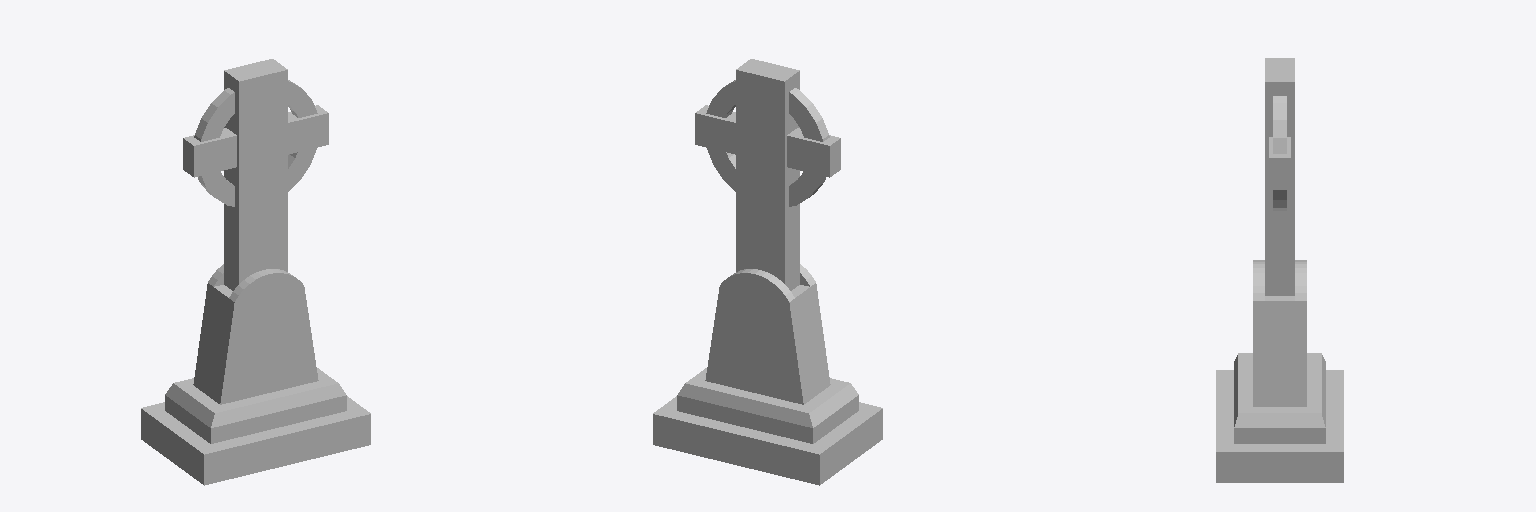
The model's file is gravestoneCrossLarge.obj.
3 renders of one model, left to right at view 1: azimuth 30°, elevation 25°; view 2: azimuth 150°, elevation 25°; view 3: azimuth 270°, elevation 25°, orthographic.
Visible parts, largest first — view 1: gravestoneCrossLarge; view 2: gravestoneCrossLarge; view 3: gravestoneCrossLarge.
Part boxes in pixels (x1,y1,x2,y2): gravestoneCrossLarge: (141,59,370,485); gravestoneCrossLarge: (653,59,882,485); gravestoneCrossLarge: (1216,58,1343,482).
Size of the model in its own units: 4.42 by 9.38 by 2.91.